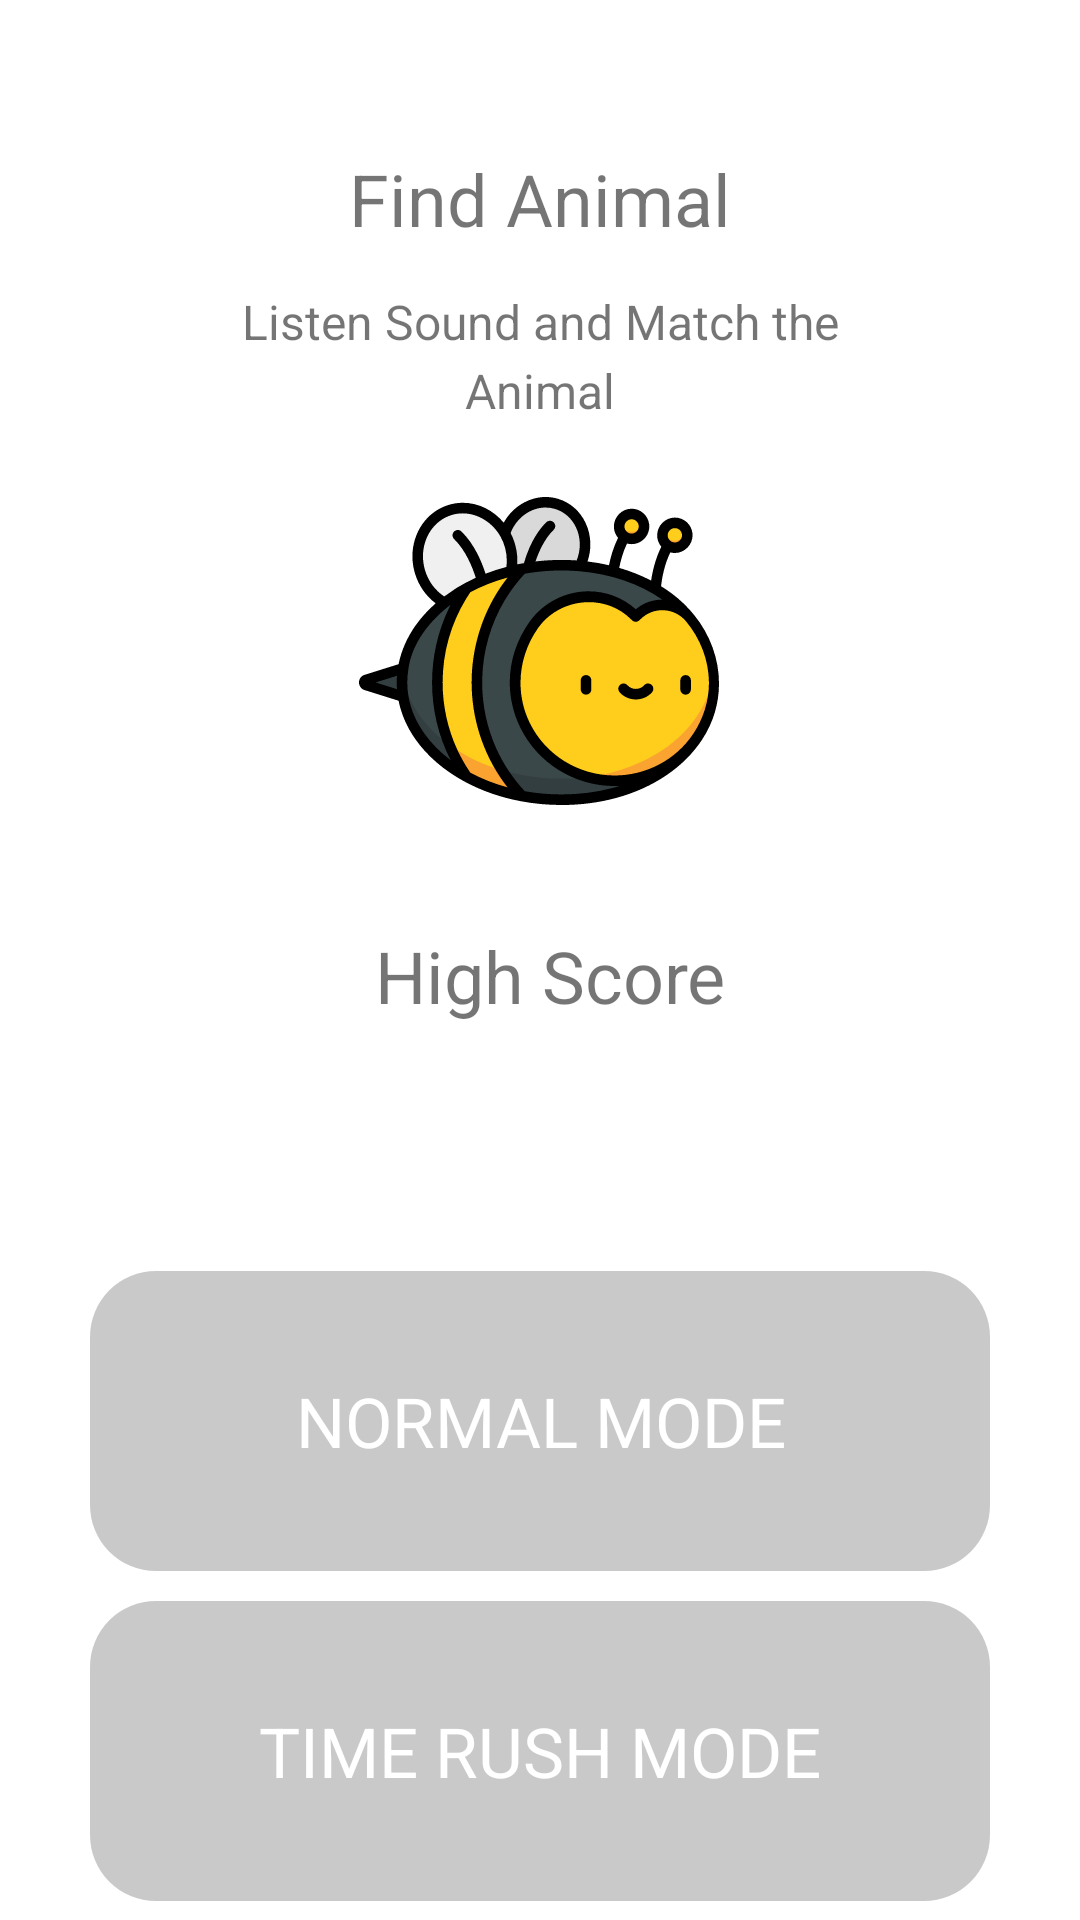

Named icons in this screenshot (1080px x 1920px) and their centers, (x,y):
bee: (539,651)
